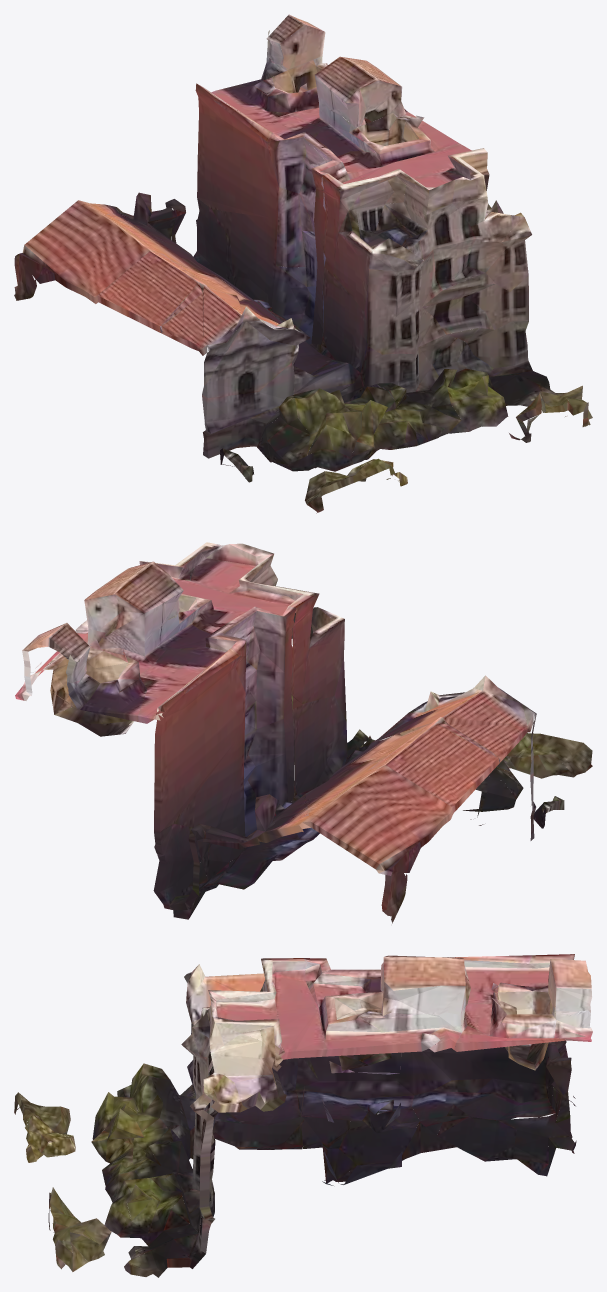
3 views of the same model, one above another, from view 1: azimuth 30°, elevation 25°; view 2: azimuth 150°, elevation 25°; view 3: azimuth 270°, elevation 25° (orthographic). The views are drawn at different scales.
Parts seen in each view (by area): view 1: Mesh_0; view 2: Mesh_0; view 3: Mesh_0.
Boxes of the visible parts, x1,y1,x2,y2 form: Mesh_0: [14, 14, 592, 513]; Mesh_0: [15, 542, 592, 923]; Mesh_0: [14, 954, 592, 1277].
Bounding box in the file's own units: 32.92 × 22.27 × 41.27.
2 materials, 2 textured.
